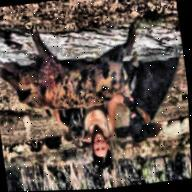boar: (0, 24, 165, 118)
